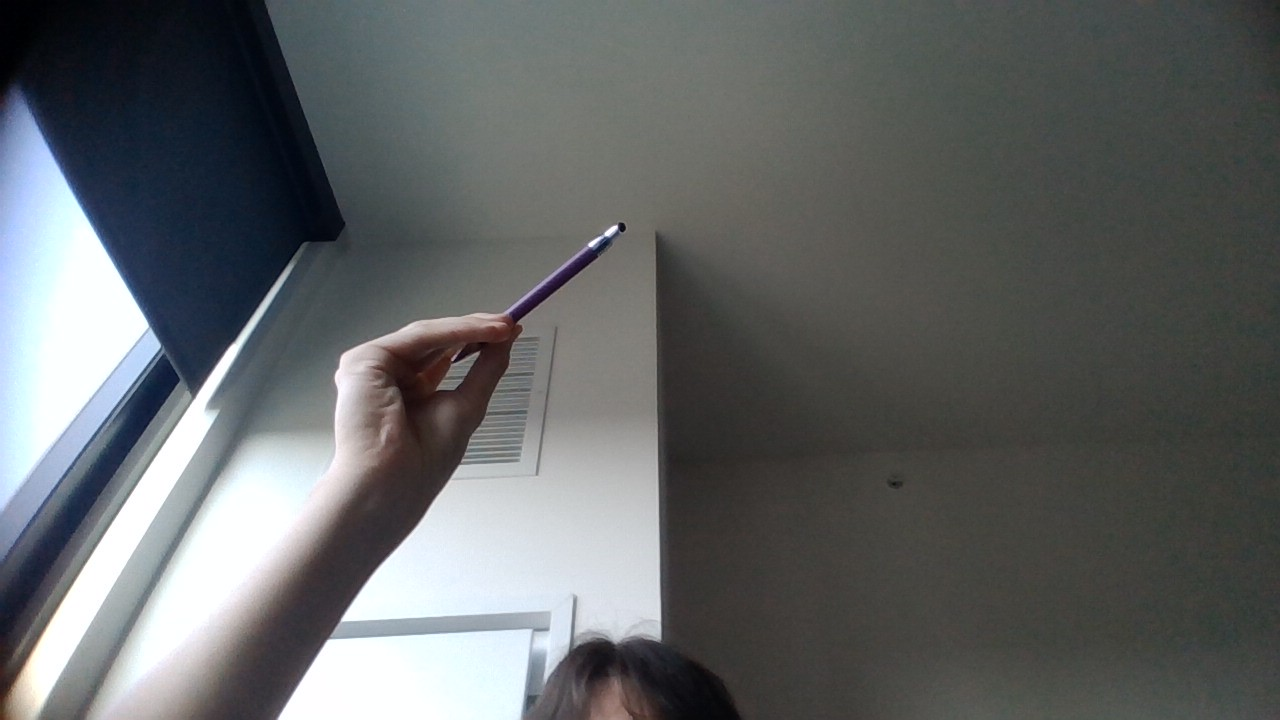Cypres Pen Purple: (453, 221, 625, 359)
